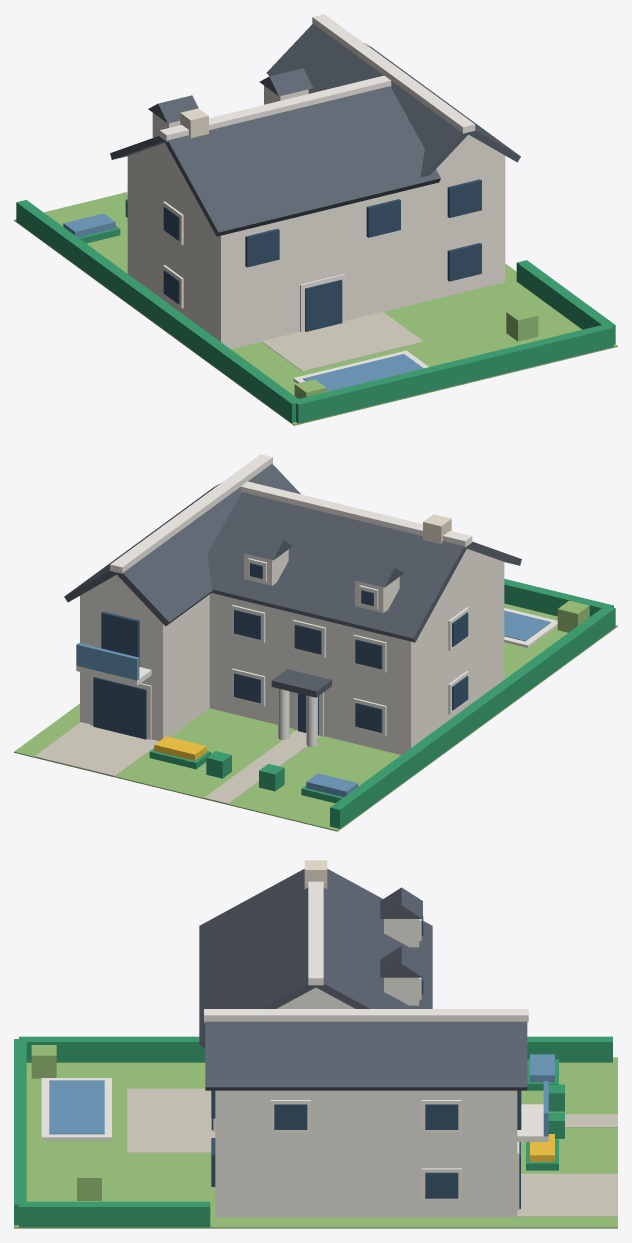
The picture shows the model from 3 angles, top to bottom: view 1: azimuth 30°, elevation 25°; view 2: azimuth 150°, elevation 25°; view 3: azimuth 270°, elevation 25°; orthographic projection. The views are drawn at different scales.
Parts seen in each view (by area): view 1: roof (×3), house, hedge (×3), lawn, wing, ridge (×2), patio, window_glass (×4), gable (×2), pool, dormer_roof (×2), door (+4 smaller); view 2: roof (×3), house, lawn, hedge (×2), wing, ridge (×2), window_glass (×6), driveway, garage_door, gable (×2), path, dormer_roof (×2) (+13 smaller); view 3: roof (×3), wing, lawn, hedge (×3), ridge (×2), patio, driveway, pool, window_glass (×3), dormer_roof (×2), dormer (×2), tree_spot (×2) (+7 smaller).
Part boxes in pixels (<box>): roof (×3): <box>163,24,520,236</box>; house: <box>127,156,423,348</box>; hedge (×3): <box>16,200,615,423</box>; lawn: <box>14,193,617,425</box>; wing: <box>423,155,505,301</box>; ridge (×2): <box>159,14,475,141</box>; patio: <box>261,311,423,371</box>; window_glass (×4): <box>245,179,481,281</box>; gable (×2): <box>128,134,503,209</box>; pool: <box>303,354,423,391</box>; dormer_roof (×2): <box>148,68,313,123</box>; door: <box>305,279,342,331</box>; roof (×3): <box>64,463,467,642</box>; house: <box>209,562,504,754</box>; lawn: <box>14,603,617,831</box>; hedge (×2): <box>330,579,615,828</box>; wing: <box>80,594,209,740</box>; ridge (×2): <box>110,454,472,573</box>; window_glass (×6): <box>101,610,382,732</box>; driveway: <box>34,722,158,776</box>; garage_door: <box>93,677,146,739</box>; gable (×2): <box>81,549,503,615</box>; path: <box>204,730,320,803</box>; dormer_roof (×2): <box>239,532,404,587</box>; roof (×3): <box>199,869,527,1090</box>; wing: <box>215,1090,517,1217</box>; lawn: <box>14,1057,617,1228</box>; hedge (×3): <box>14,1036,612,1227</box>; ridge (×2): <box>204,881,528,1022</box>; patio: <box>127,1088,215,1152</box>; driveway: <box>517,1173,617,1216</box>; pool: <box>49,1080,104,1134</box>; window_glass (×3): <box>274,1104,458,1198</box>; dormer_roof (×2): <box>380,887,422,977</box>; dormer (×2): <box>384,919,419,1005</box>; tree_spot (×2): <box>31,1045,101,1200</box>.
Size of the model in its own units: 16 by 9.4 by 24.
